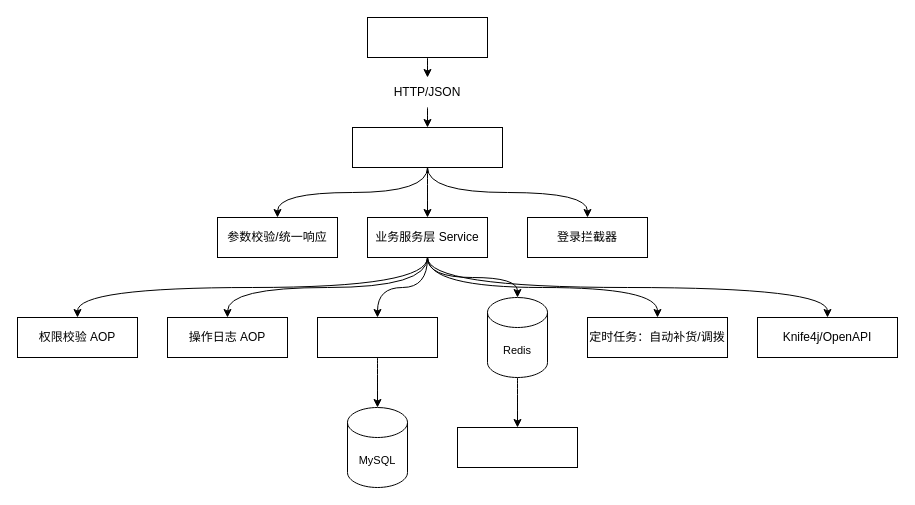
Some shapes in this 915 by 505 pixel diagram are drawn without their labels. The shapes that lost their labels are listed below. From the top down, each one's centre as x and y in pixels, then its label:
(427,37): 前端/浏览器
(427,147): Spring MVC Controller
(377,337): MyBatis-Plus Mapper
(517,447): Spring Session
